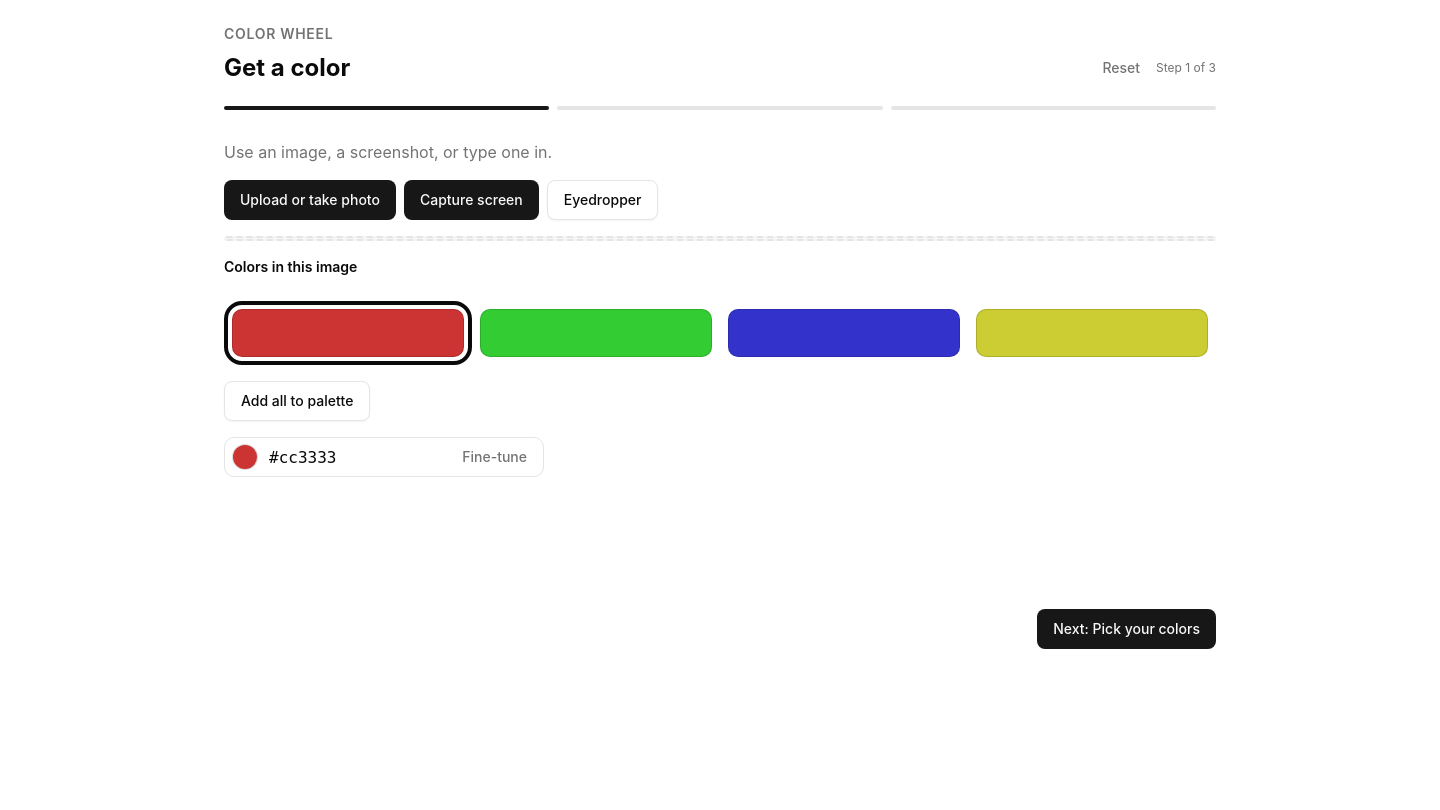
Test: choosing a suggested pairing on step 2 › works while the palette is full: no pairing is disabled
This screenshot has width=1440, height=810.
Expected: the text "Colors in this image" is shown, top-left (224, 258), bottom-right (357, 275)
Click the button "Add all to palette" at point(297, 401), box top-left (224, 381), bottom-right (370, 421)
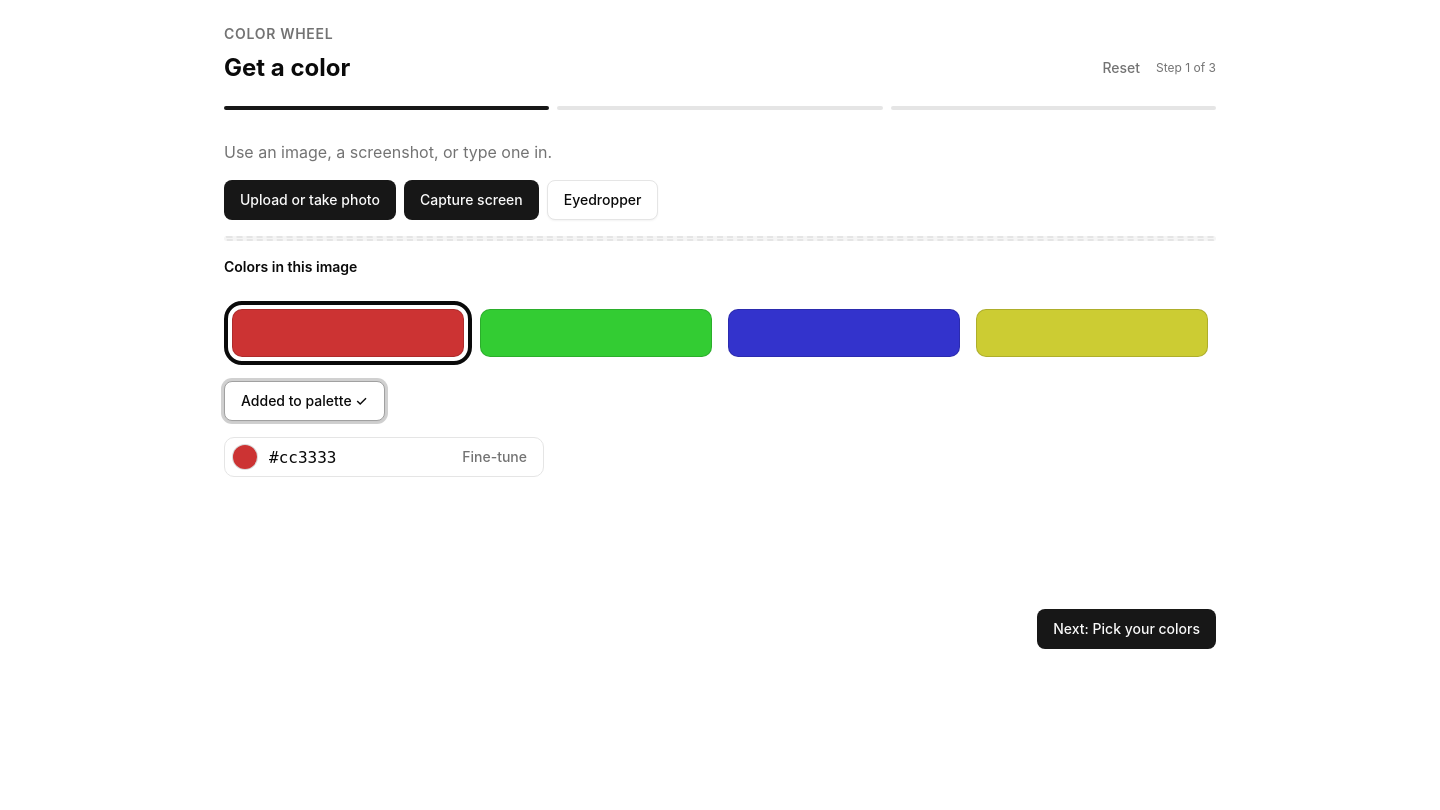
Click the button "Next: Pick your colors" at point(1127, 629), box top-left (1037, 609), bottom-right (1216, 649)
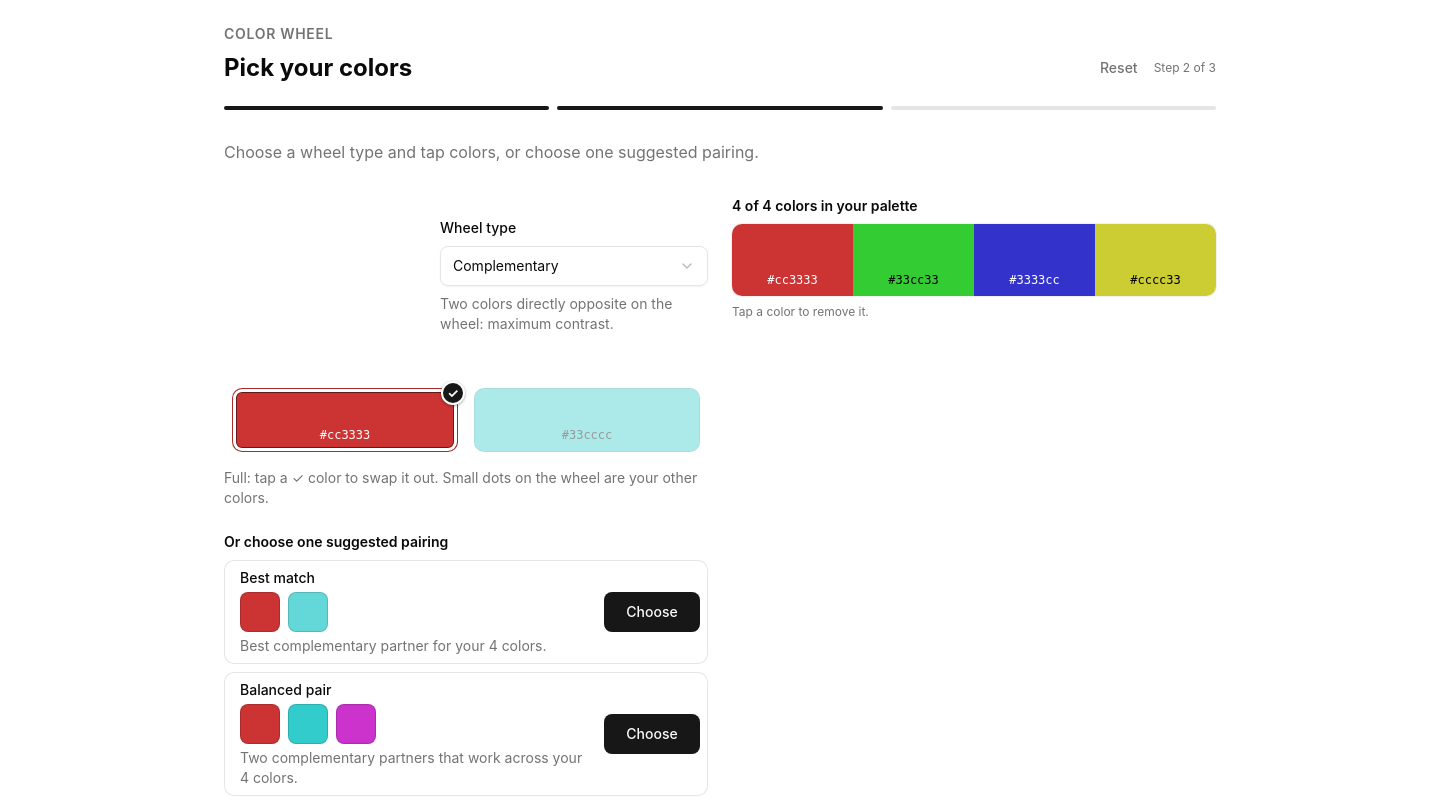
Result: the heading "4 of 4 colors in your palette" is shown at top-left (732, 197), bottom-right (918, 214)
Result: the 1st button "Choose" is enabled at top-left (604, 592), bottom-right (700, 632)
Result: the 2nd button "Choose" is enabled at top-left (604, 714), bottom-right (700, 754)
